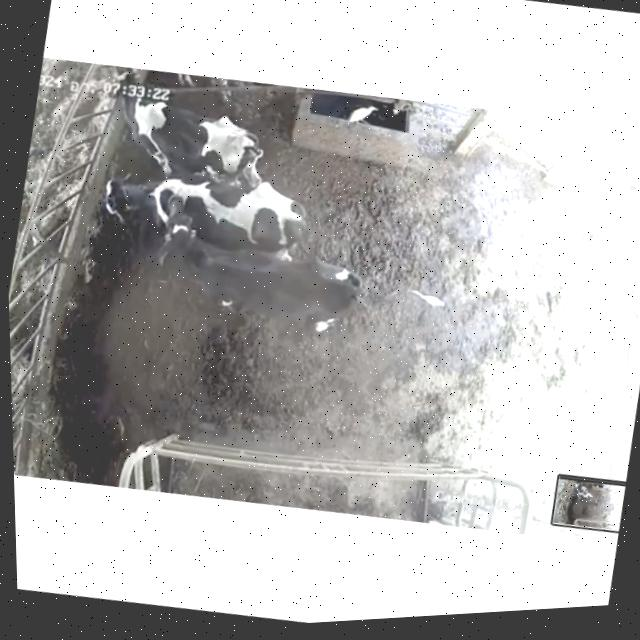propping: (138, 172, 226, 285)
